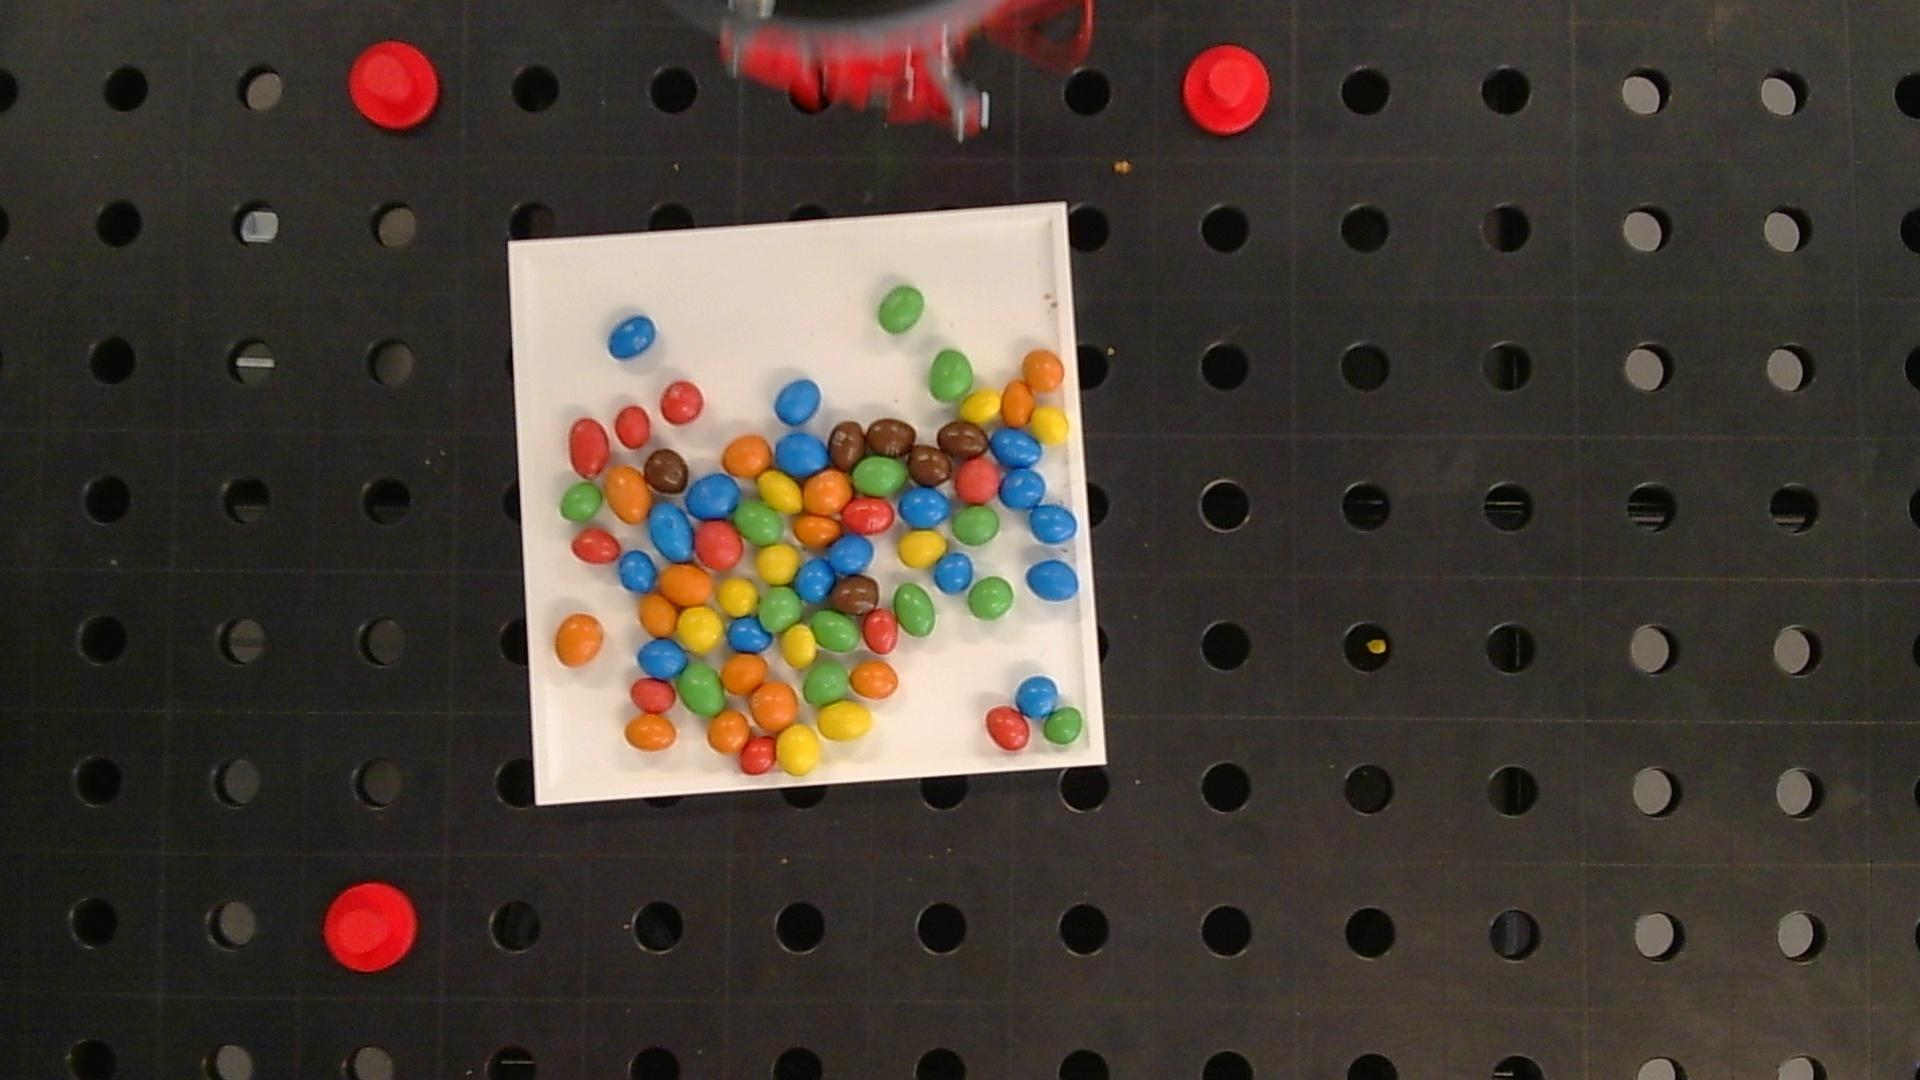blue: (650, 502, 694, 560), (687, 473, 740, 518), (777, 433, 828, 476), (1027, 559, 1079, 601), (608, 315, 655, 360), (775, 380, 820, 426), (899, 487, 949, 527), (989, 429, 1042, 467), (638, 638, 686, 678), (1030, 505, 1076, 545), (1002, 469, 1047, 509), (795, 558, 835, 603), (829, 534, 874, 574), (1017, 675, 1058, 716), (727, 616, 771, 651), (935, 553, 973, 593), (618, 551, 655, 592)
brown: (936, 421, 988, 459), (645, 448, 688, 493), (866, 418, 916, 456), (829, 421, 866, 469), (909, 444, 951, 485), (835, 576, 880, 615)
green: (679, 663, 724, 715), (853, 455, 909, 496), (894, 583, 935, 637), (930, 351, 973, 401), (733, 501, 785, 543), (877, 287, 922, 332), (968, 576, 1014, 620), (812, 611, 860, 651), (952, 506, 1000, 546), (804, 662, 848, 704), (760, 588, 803, 630), (559, 483, 603, 522), (1043, 707, 1087, 746)
orange: (605, 465, 651, 522), (555, 613, 604, 666), (750, 682, 798, 731), (659, 564, 713, 604), (723, 434, 771, 476), (803, 471, 852, 512), (624, 715, 676, 750), (849, 661, 898, 699), (1022, 349, 1064, 392), (708, 711, 750, 753), (723, 654, 766, 694), (794, 513, 840, 547), (1001, 380, 1035, 426), (640, 593, 676, 636)
red: (568, 418, 609, 476), (695, 521, 742, 568), (955, 460, 1002, 502), (841, 497, 895, 534), (985, 705, 1030, 749), (661, 381, 703, 423), (571, 530, 620, 563), (615, 405, 650, 448), (864, 609, 898, 654), (632, 679, 678, 711), (740, 738, 777, 774)
yellow: (816, 702, 872, 741), (777, 725, 820, 774), (678, 607, 724, 651), (758, 471, 802, 512), (898, 531, 945, 567), (757, 545, 799, 583), (781, 625, 818, 666), (719, 578, 757, 615), (1030, 407, 1068, 443), (961, 392, 1001, 421)
